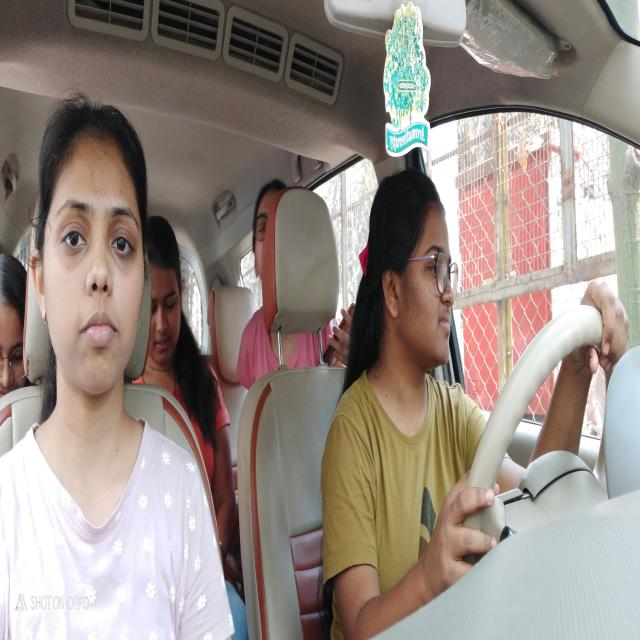person: (36, 96, 151, 391), (384, 160, 464, 392), (145, 212, 187, 376), (250, 172, 290, 294), (0, 267, 28, 397)
